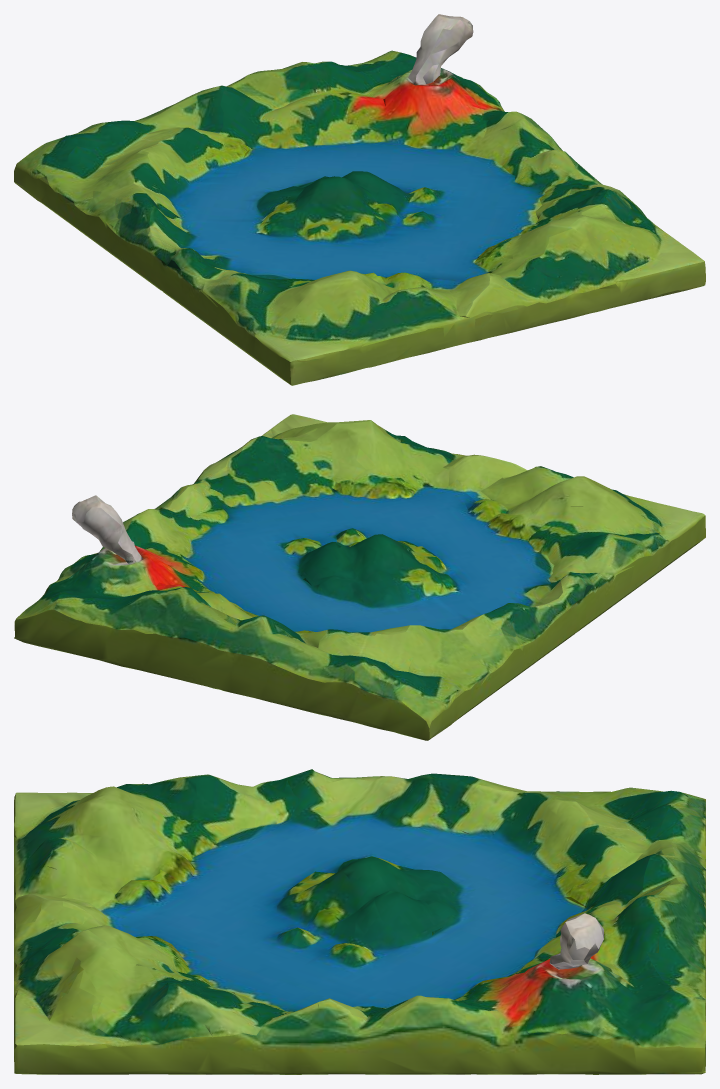
File: lake-toya.glb
3 views of the same model, one above another, from view 1: azimuth 30°, elevation 25°; view 2: azimuth 150°, elevation 25°; view 3: azimuth 270°, elevation 25° (orthographic). The views are drawn at different scales.
Parts seen in each view (by area): view 1: logan-textured.obj; view 2: logan-textured.obj; view 3: logan-textured.obj.
Boxes of the visible parts, x1,y1,x2,y2 form: logan-textured.obj: (14,14,705,385); logan-textured.obj: (14,414,705,740); logan-textured.obj: (14,769,705,1074).
Size of the model in its own units: 0.8671 by 0.2228 by 1.
Materials: 1 (1 with a texture image).
